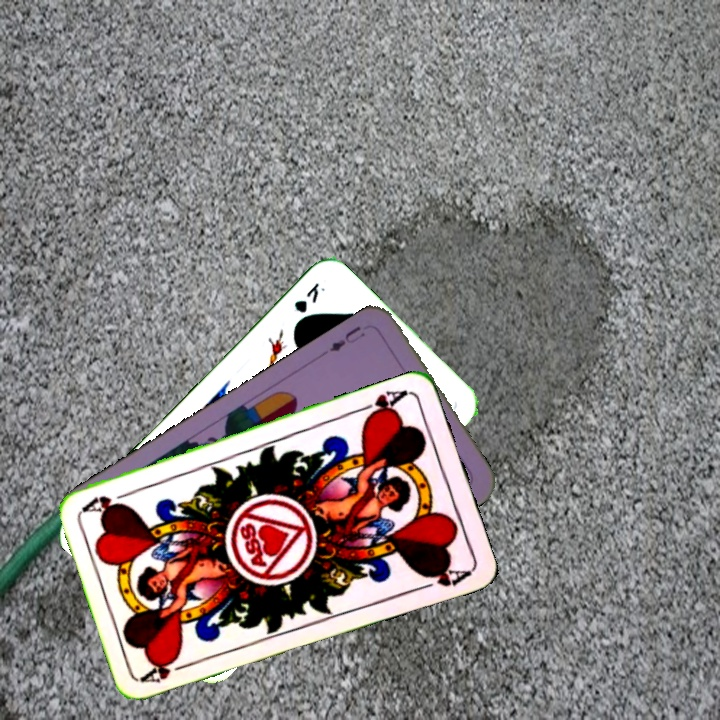EU: (325, 322, 368, 355)
GK: (290, 278, 328, 316)
HA: (354, 385, 412, 423), (138, 653, 196, 686)
